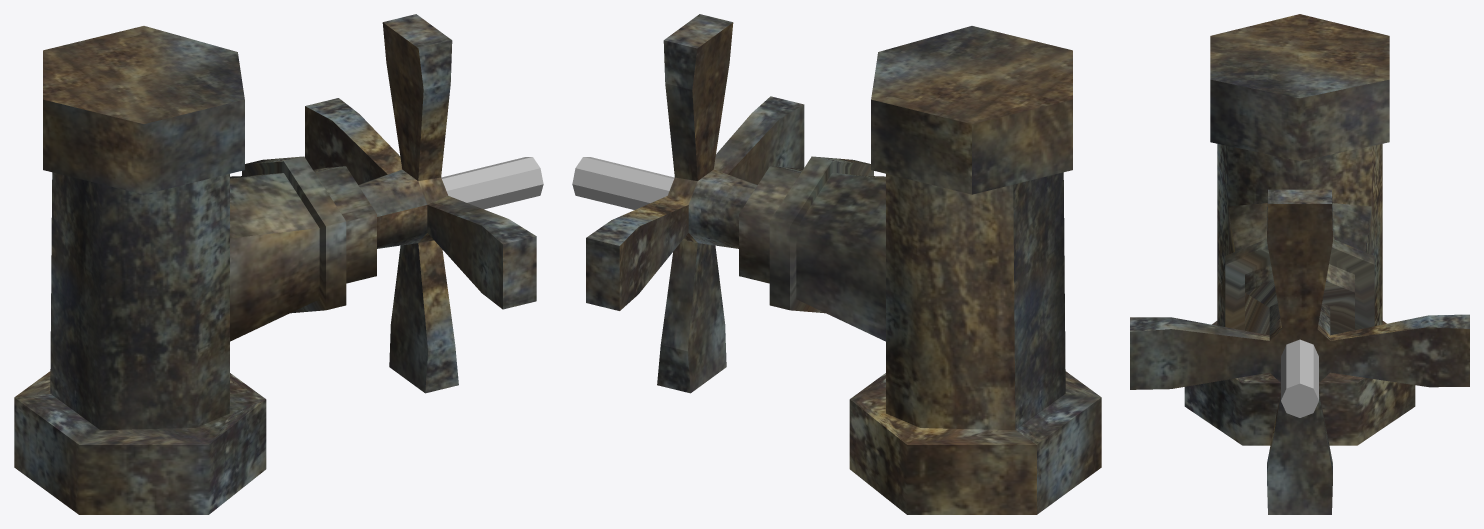
Rendered from pipe_valve_joint.dae.
3 renders of one model, left to right at view 1: azimuth 30°, elevation 25°; view 2: azimuth 150°, elevation 25°; view 3: azimuth 270°, elevation 25°, orthographic. The views are drawn at different scales.
Visible parts, largest first — view 1: mount, valve, _joint_hinge_valve_mount_nocollide_joint1; view 2: mount, valve, _joint_hinge_valve_mount_nocollide_joint1; view 3: mount, valve, _joint_hinge_valve_mount_nocollide_joint1.
Boxes of the visible parts, box(x1,y1,x2,y2) form: mount: box(14, 26, 376, 514); valve: box(305, 14, 536, 393); _joint_hinge_valve_mount_nocollide_joint1: box(441, 157, 543, 209); mount: box(739, 26, 1101, 514); valve: box(586, 14, 804, 393); _joint_hinge_valve_mount_nocollide_joint1: box(572, 157, 674, 209); mount: box(1184, 14, 1415, 445); valve: box(1130, 189, 1469, 514); _joint_hinge_valve_mount_nocollide_joint1: box(1281, 339, 1318, 417).
Size of what is drawn, in the model's own units: 0.2745 by 0.2102 by 0.1856.
